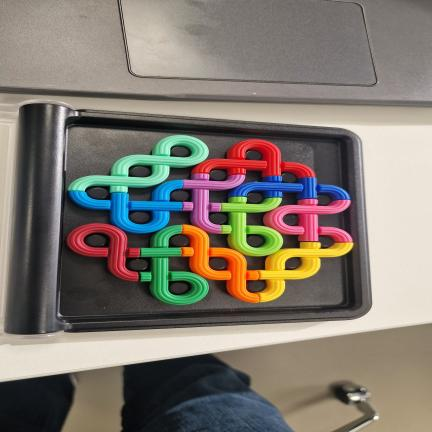A_Yellow: (256, 242, 353, 302)
B_SkyBlue: (69, 181, 183, 233)
C_DarkBlue: (229, 176, 350, 199)
D_Green: (139, 225, 208, 304)
E_Red: (193, 139, 315, 178)
F_Teal: (68, 136, 208, 193)
G_Pink: (264, 199, 352, 242)
H_Purple: (183, 174, 244, 233)
I_Orange: (182, 225, 259, 302)
J_DarkRed: (67, 224, 140, 281)
K_YellowGreen: (221, 197, 283, 256)
board: (5, 103, 371, 335)
hinge: (8, 105, 61, 333)
pin: (432, 52, 432, 53)
